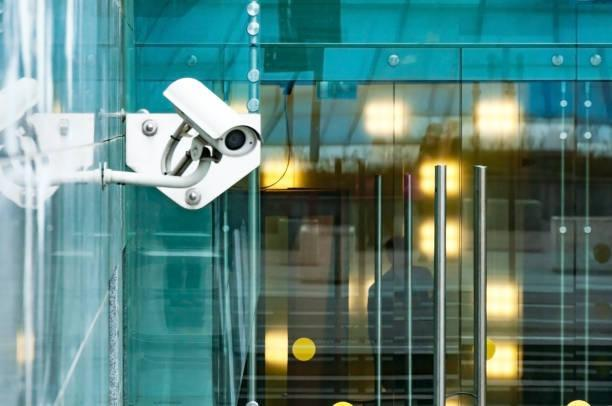camera: (153, 73, 288, 178)
